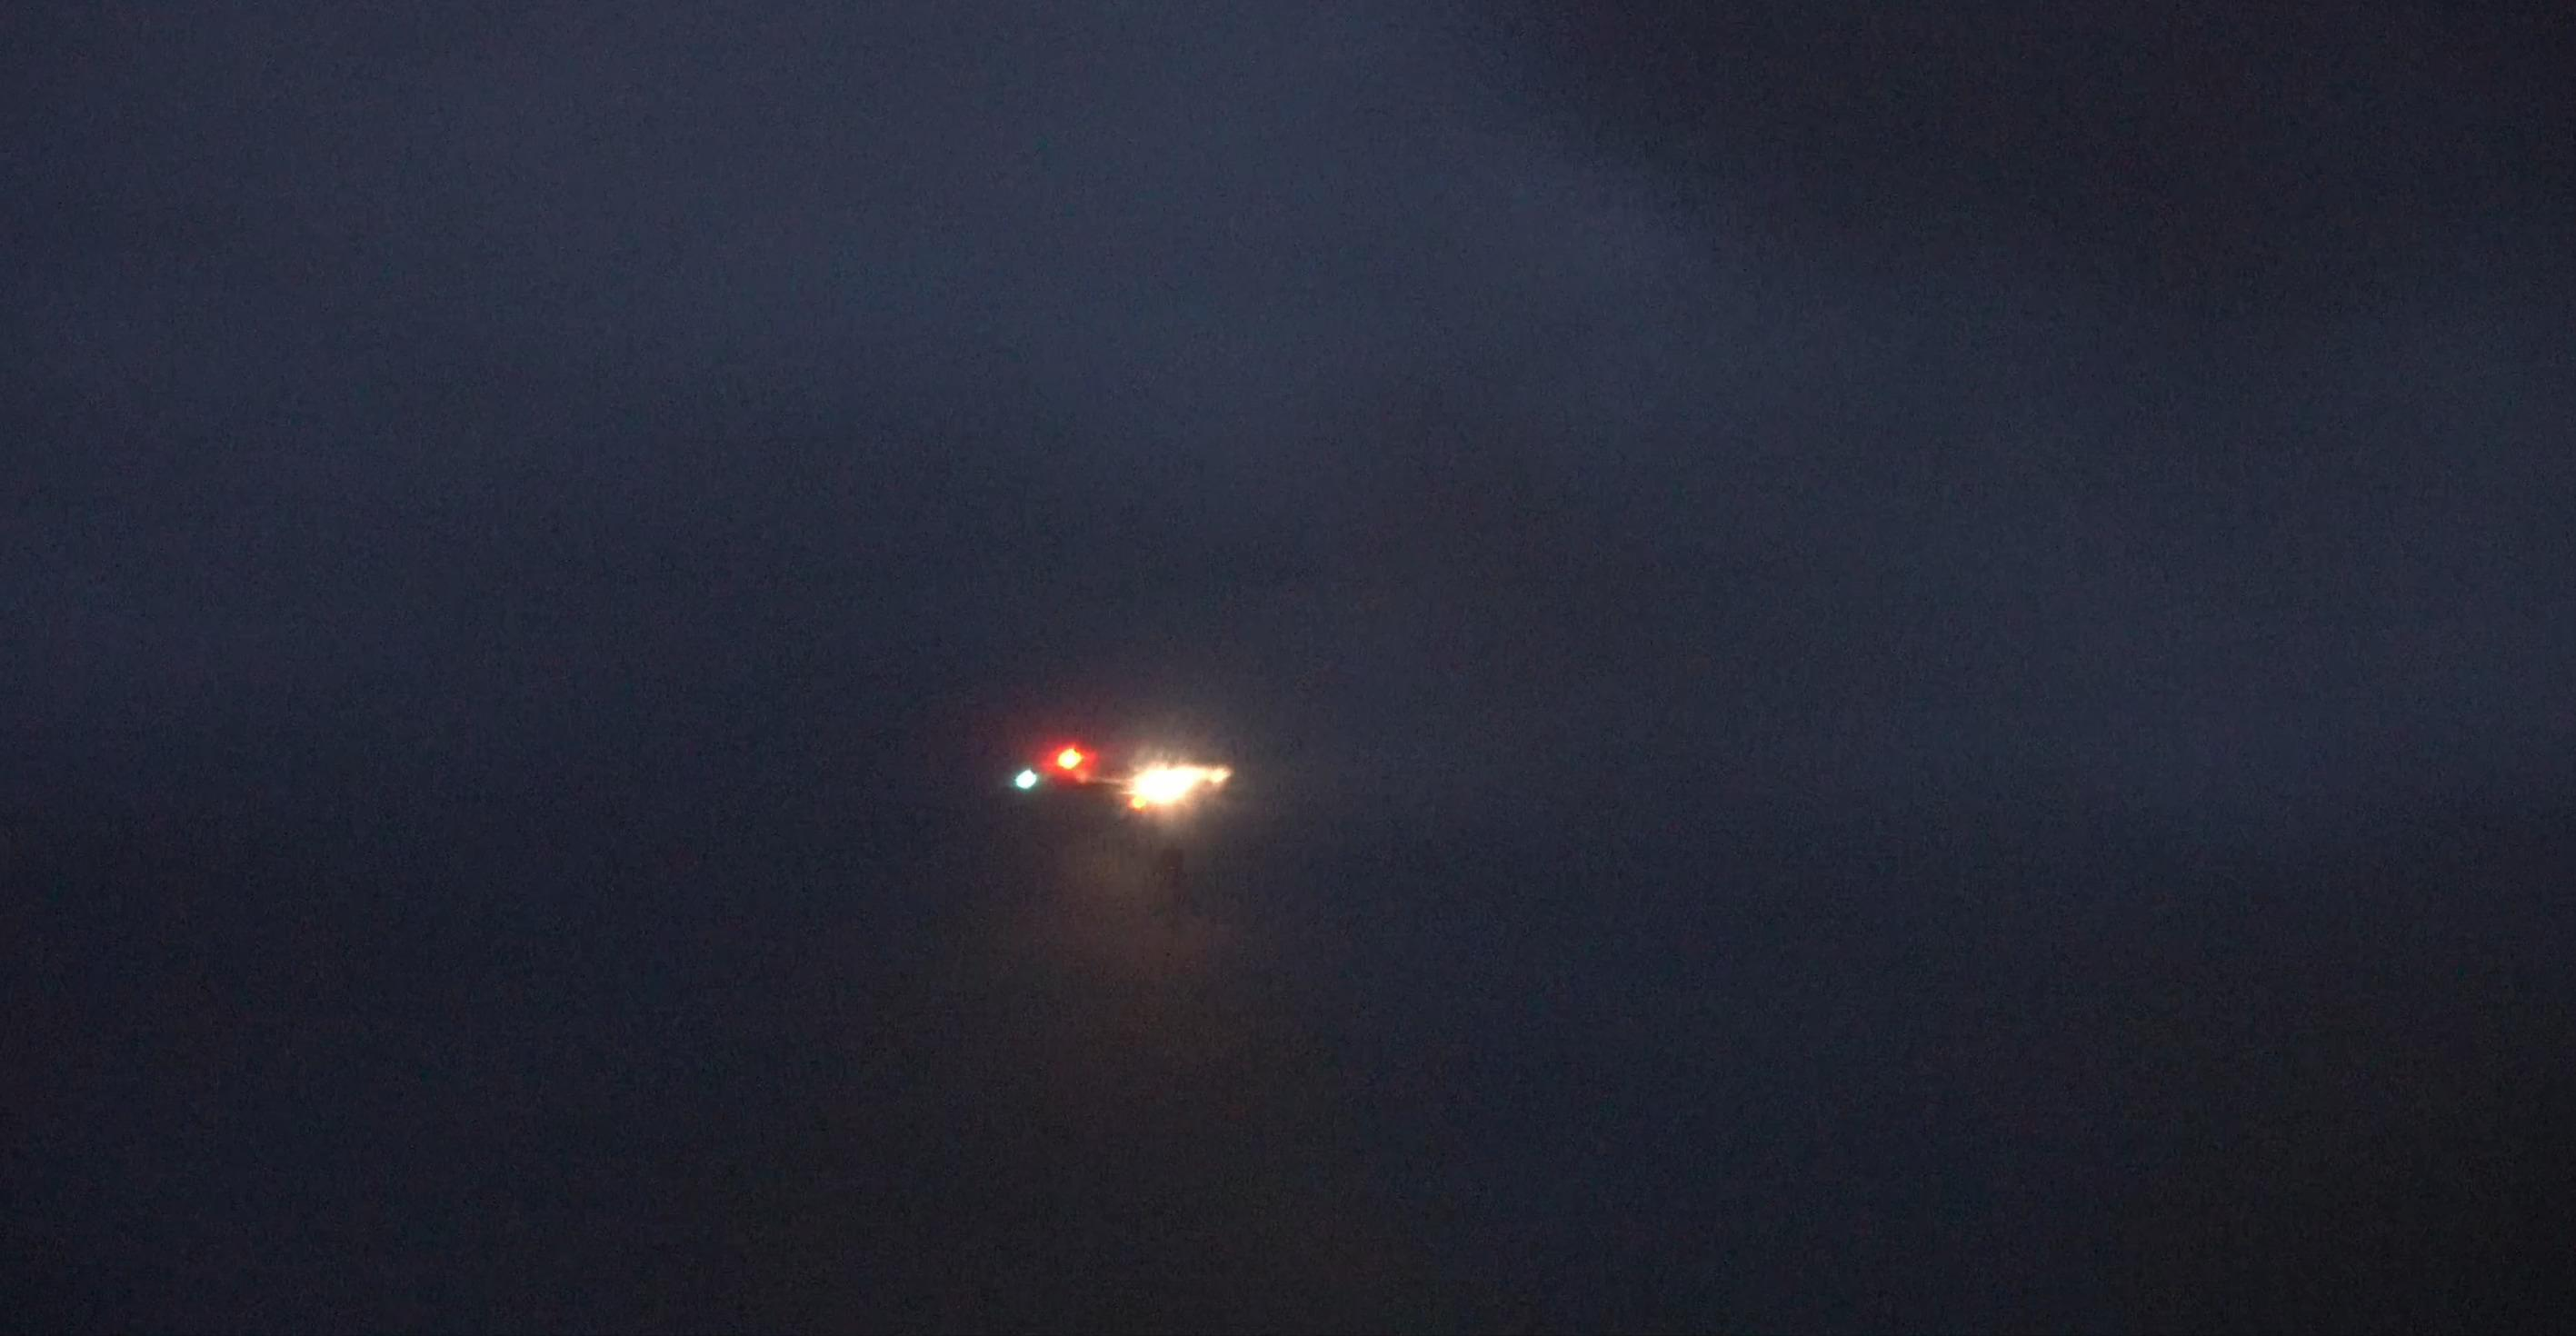Plane: (891, 685, 1373, 855)
